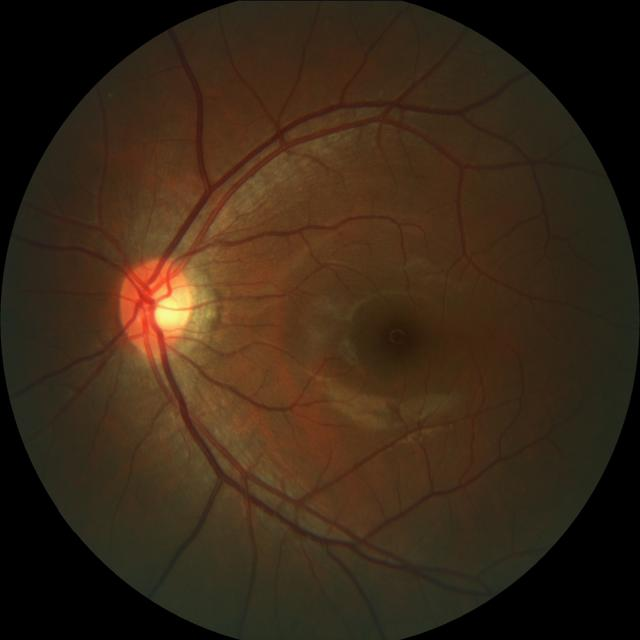OC: (139, 284, 182, 329)
OD: (120, 258, 195, 352)
